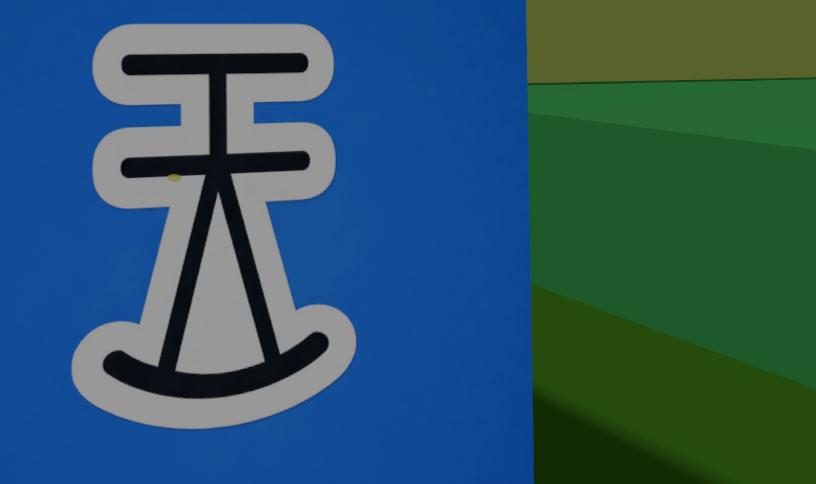KFS_REAL: (0, 0, 532, 483), (74, 24, 354, 428)
